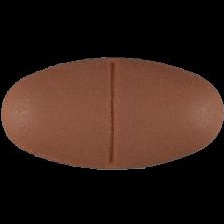49999-075: (0, 0, 224, 224)
